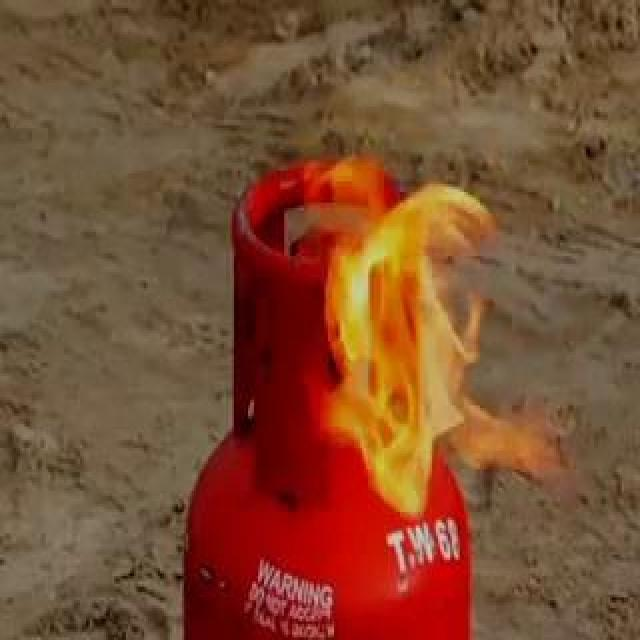Fire: (265, 127, 637, 505)
